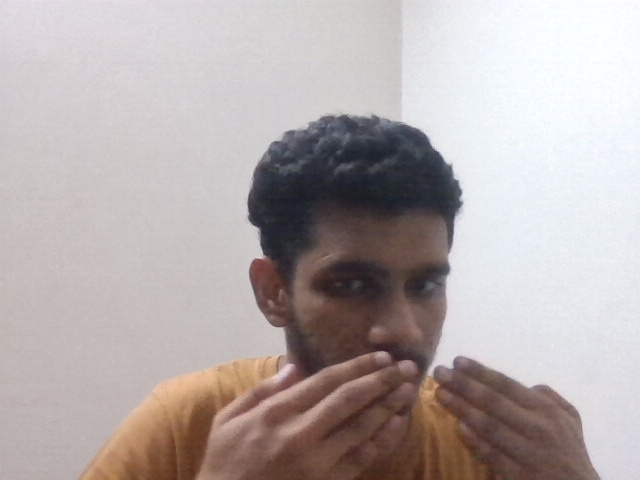thanks: (182, 334, 638, 474)
